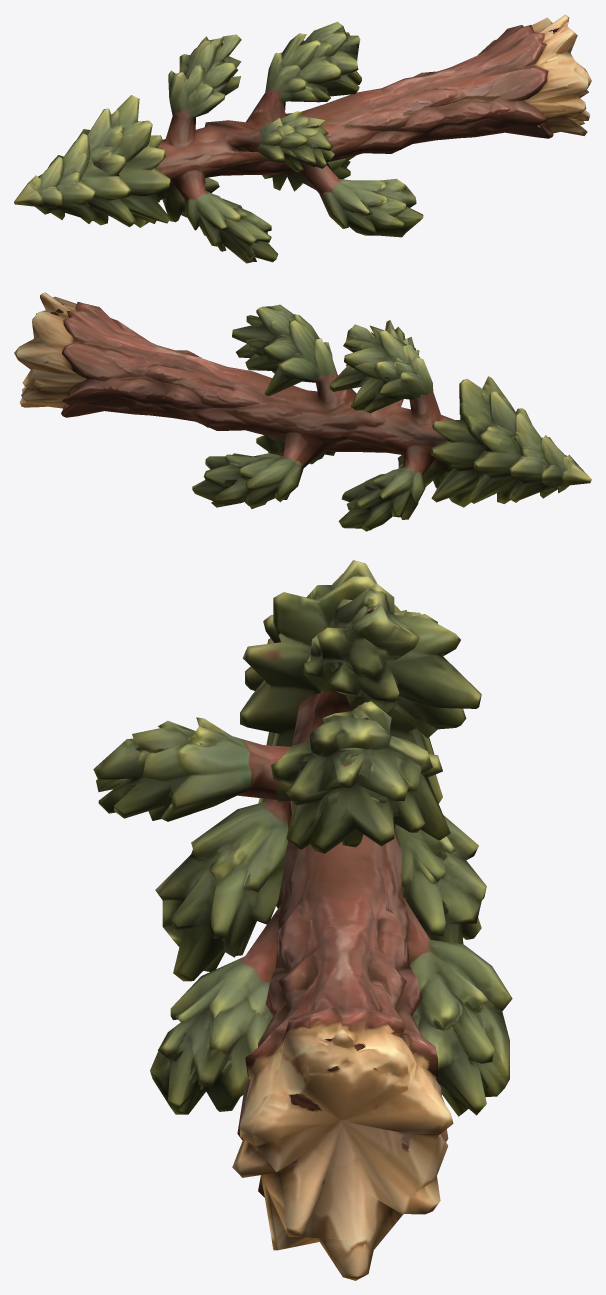
The model's file is LL_FallenTreeWide.fbx.
3 views of the same model, one above another, from view 1: azimuth 30°, elevation 25°; view 2: azimuth 150°, elevation 25°; view 3: azimuth 270°, elevation 25° (orthographic). The views are drawn at different scales.
Visible parts, largest first — view 1: tripo_node_6776eeee; view 2: tripo_node_6776eeee; view 3: tripo_node_6776eeee.
Part boxes in pixels (x1,y1,x2,y2): tripo_node_6776eeee: (14, 14, 591, 263); tripo_node_6776eeee: (14, 292, 591, 531); tripo_node_6776eeee: (93, 560, 512, 1280).
Size of the model in its own units: 98.17 by 31.31 by 32.08.
Materials: 1 (1 with a texture image).
